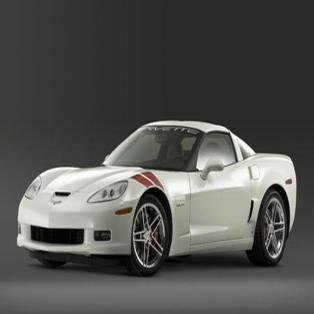Auto: (15, 115, 298, 275)
